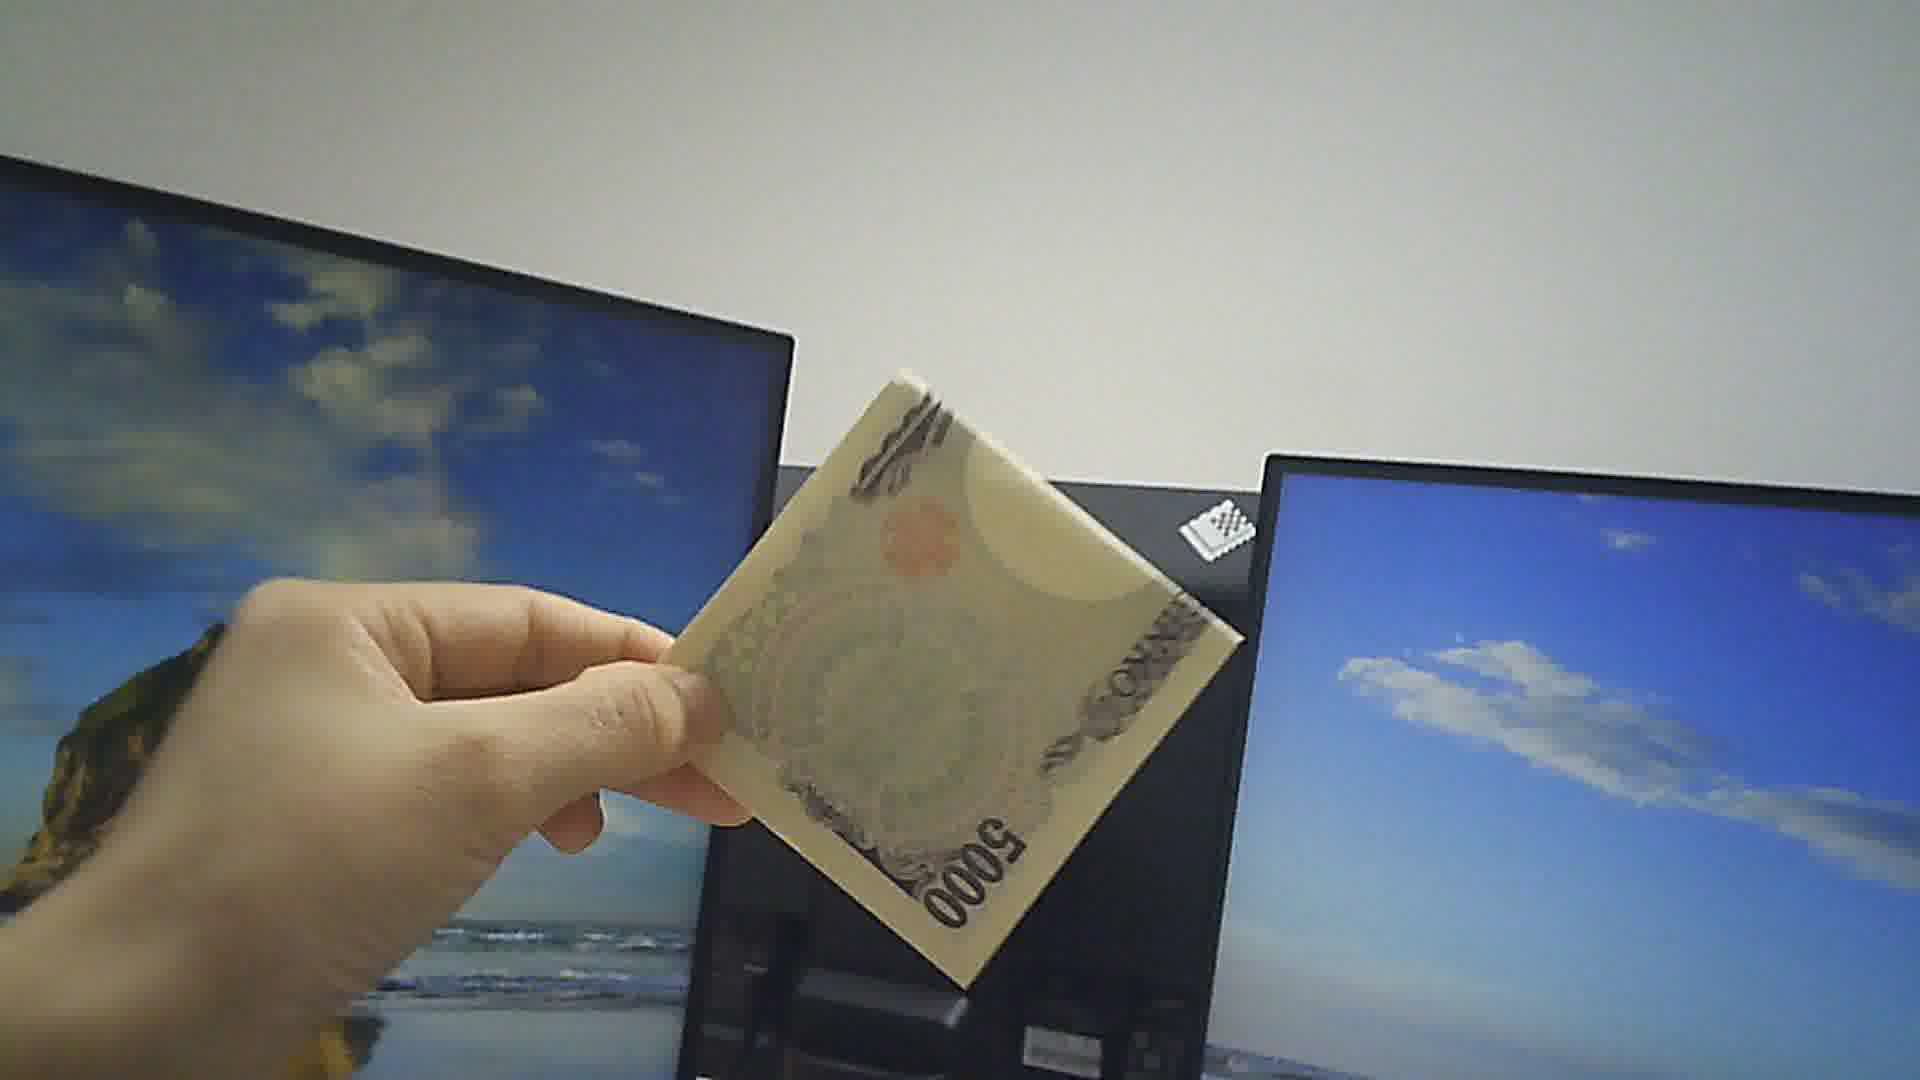5,000 Yen: (637, 364, 1263, 1004)
